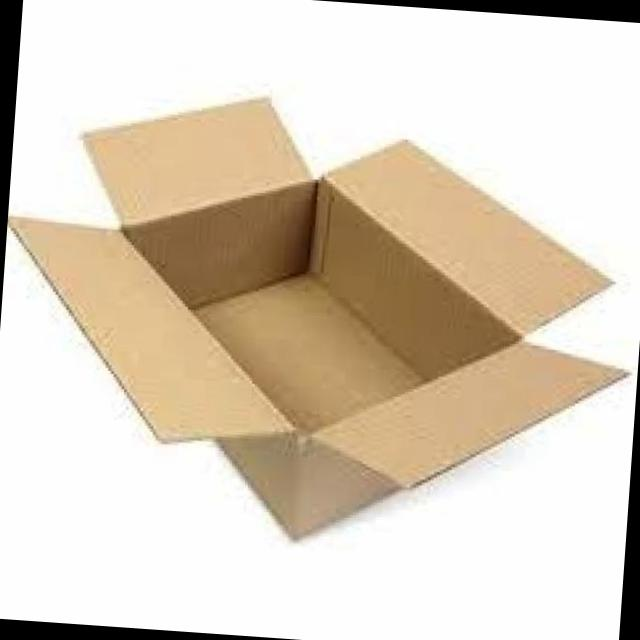cardboard paper: (9, 96, 624, 533)
